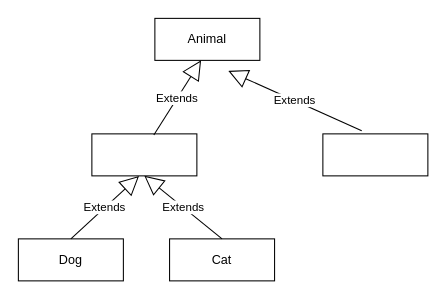
The diagram is 446 pixels wide and 299 high, and some of its shapes have lost their labels. The centre of each missing label's shape, as x and y in pixels:
Birds: point 375,154
Mammals: point 144,154
